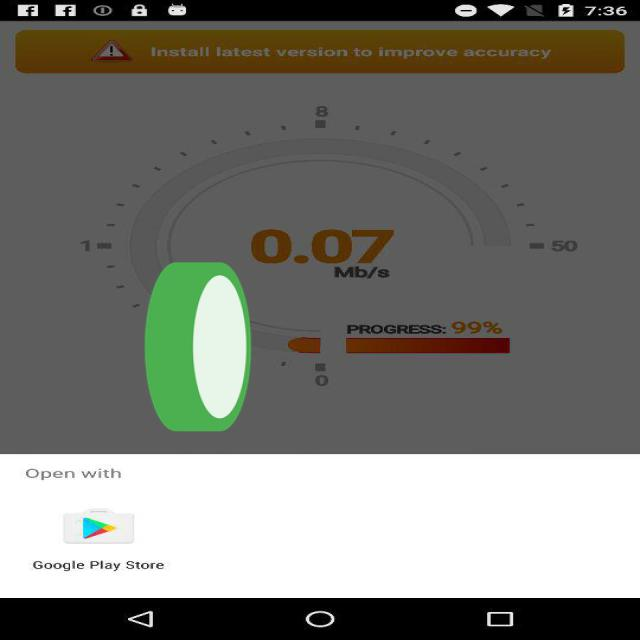social proof: (140, 198, 256, 510)
